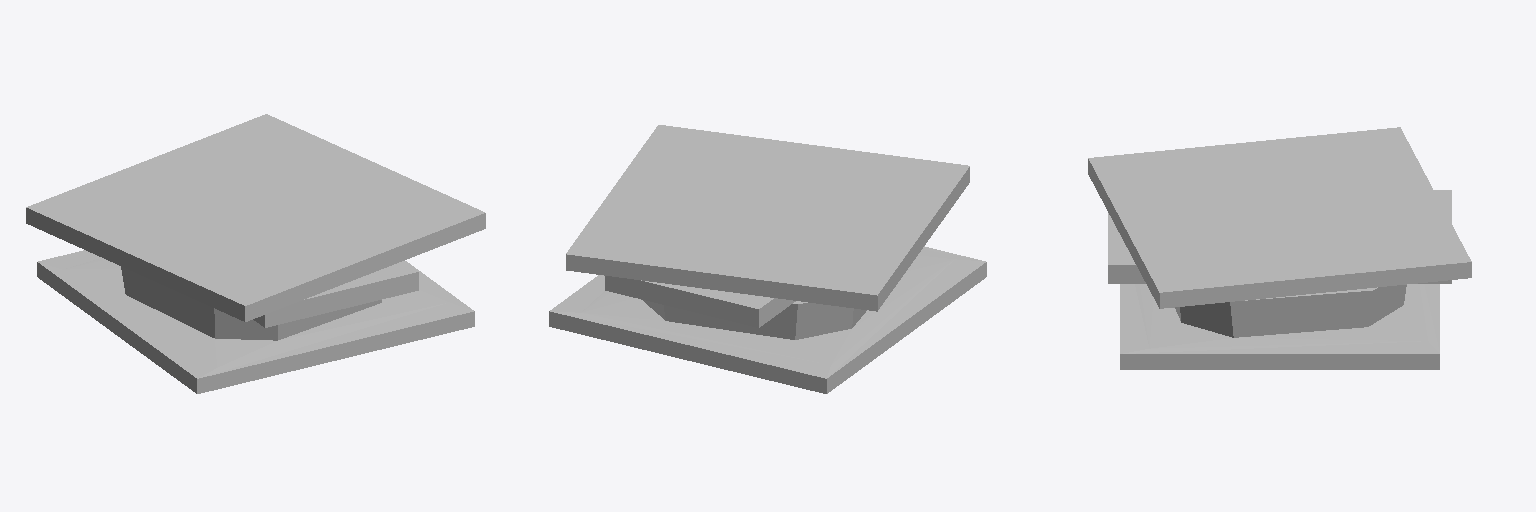
The model's file is smore2.obj.
3 views of the same model, side by side, from view 1: azimuth 30°, elevation 25°; view 2: azimuth 150°, elevation 25°; view 3: azimuth 270°, elevation 25° (orthographic).
Parts seen in each view (by area): view 1: Cube; view 2: Cube; view 3: Cube.
Part boxes in pixels (left/top/right/bottom): Cube: left=26, top=114, right=485, bottom=393; Cube: left=549, top=125, right=986, bottom=393; Cube: left=1088, top=127, right=1471, bottom=369.
Bounding box in the file's own units: 2.45 × 0.6333 × 2.4.